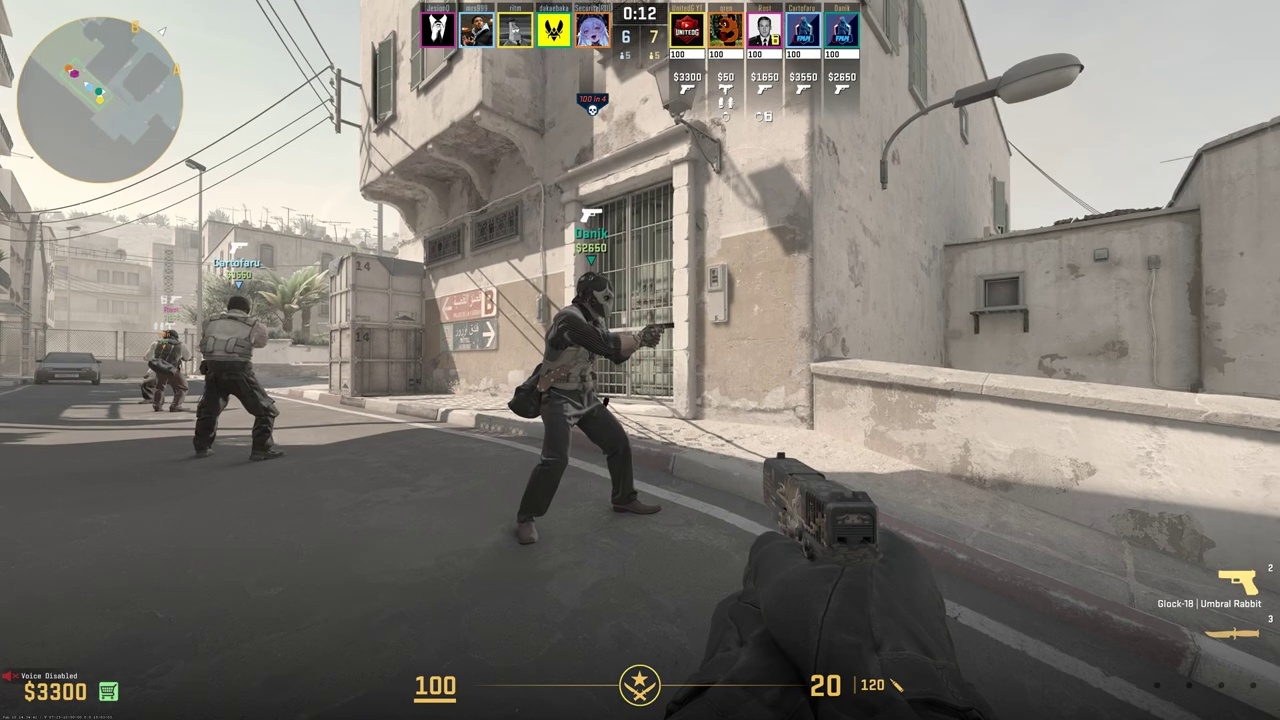Terrorist: (525, 272, 648, 545), (197, 296, 273, 462), (150, 330, 189, 412)
